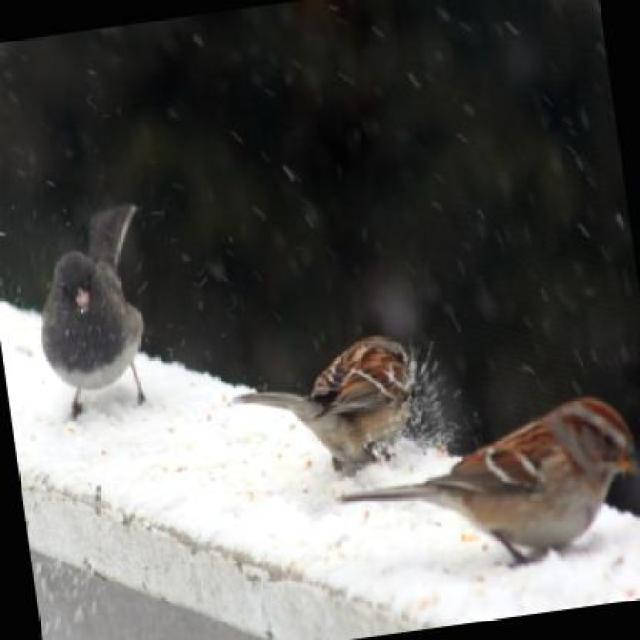Bird: (346, 393, 639, 550), (27, 189, 173, 420), (231, 317, 412, 473)
